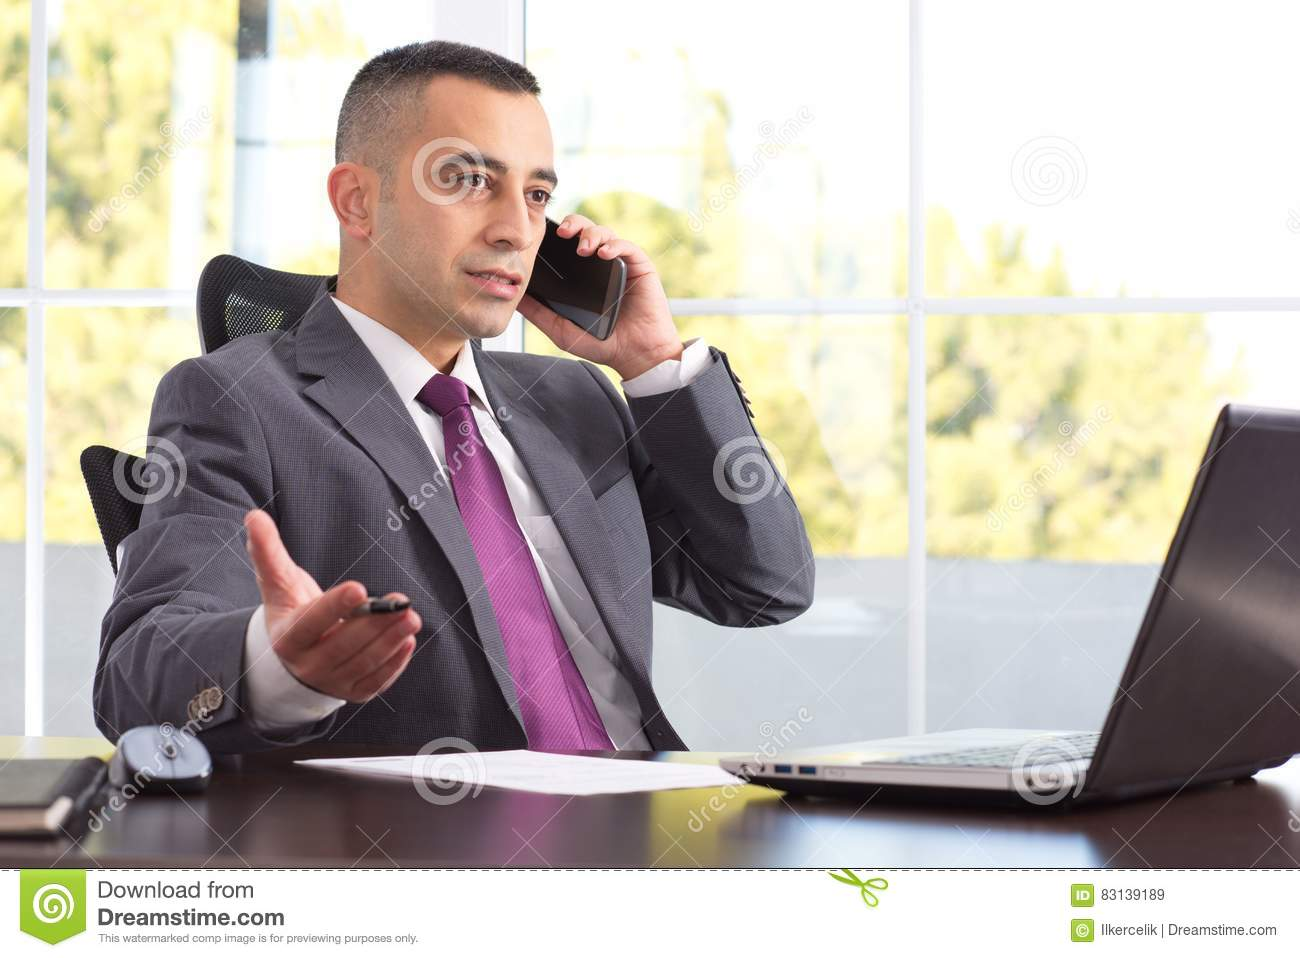phone: (530, 218, 628, 345)
talk: (432, 135, 672, 372)
